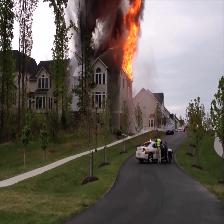fire: (120, 1, 146, 81)
smoke: (76, 0, 127, 65)
